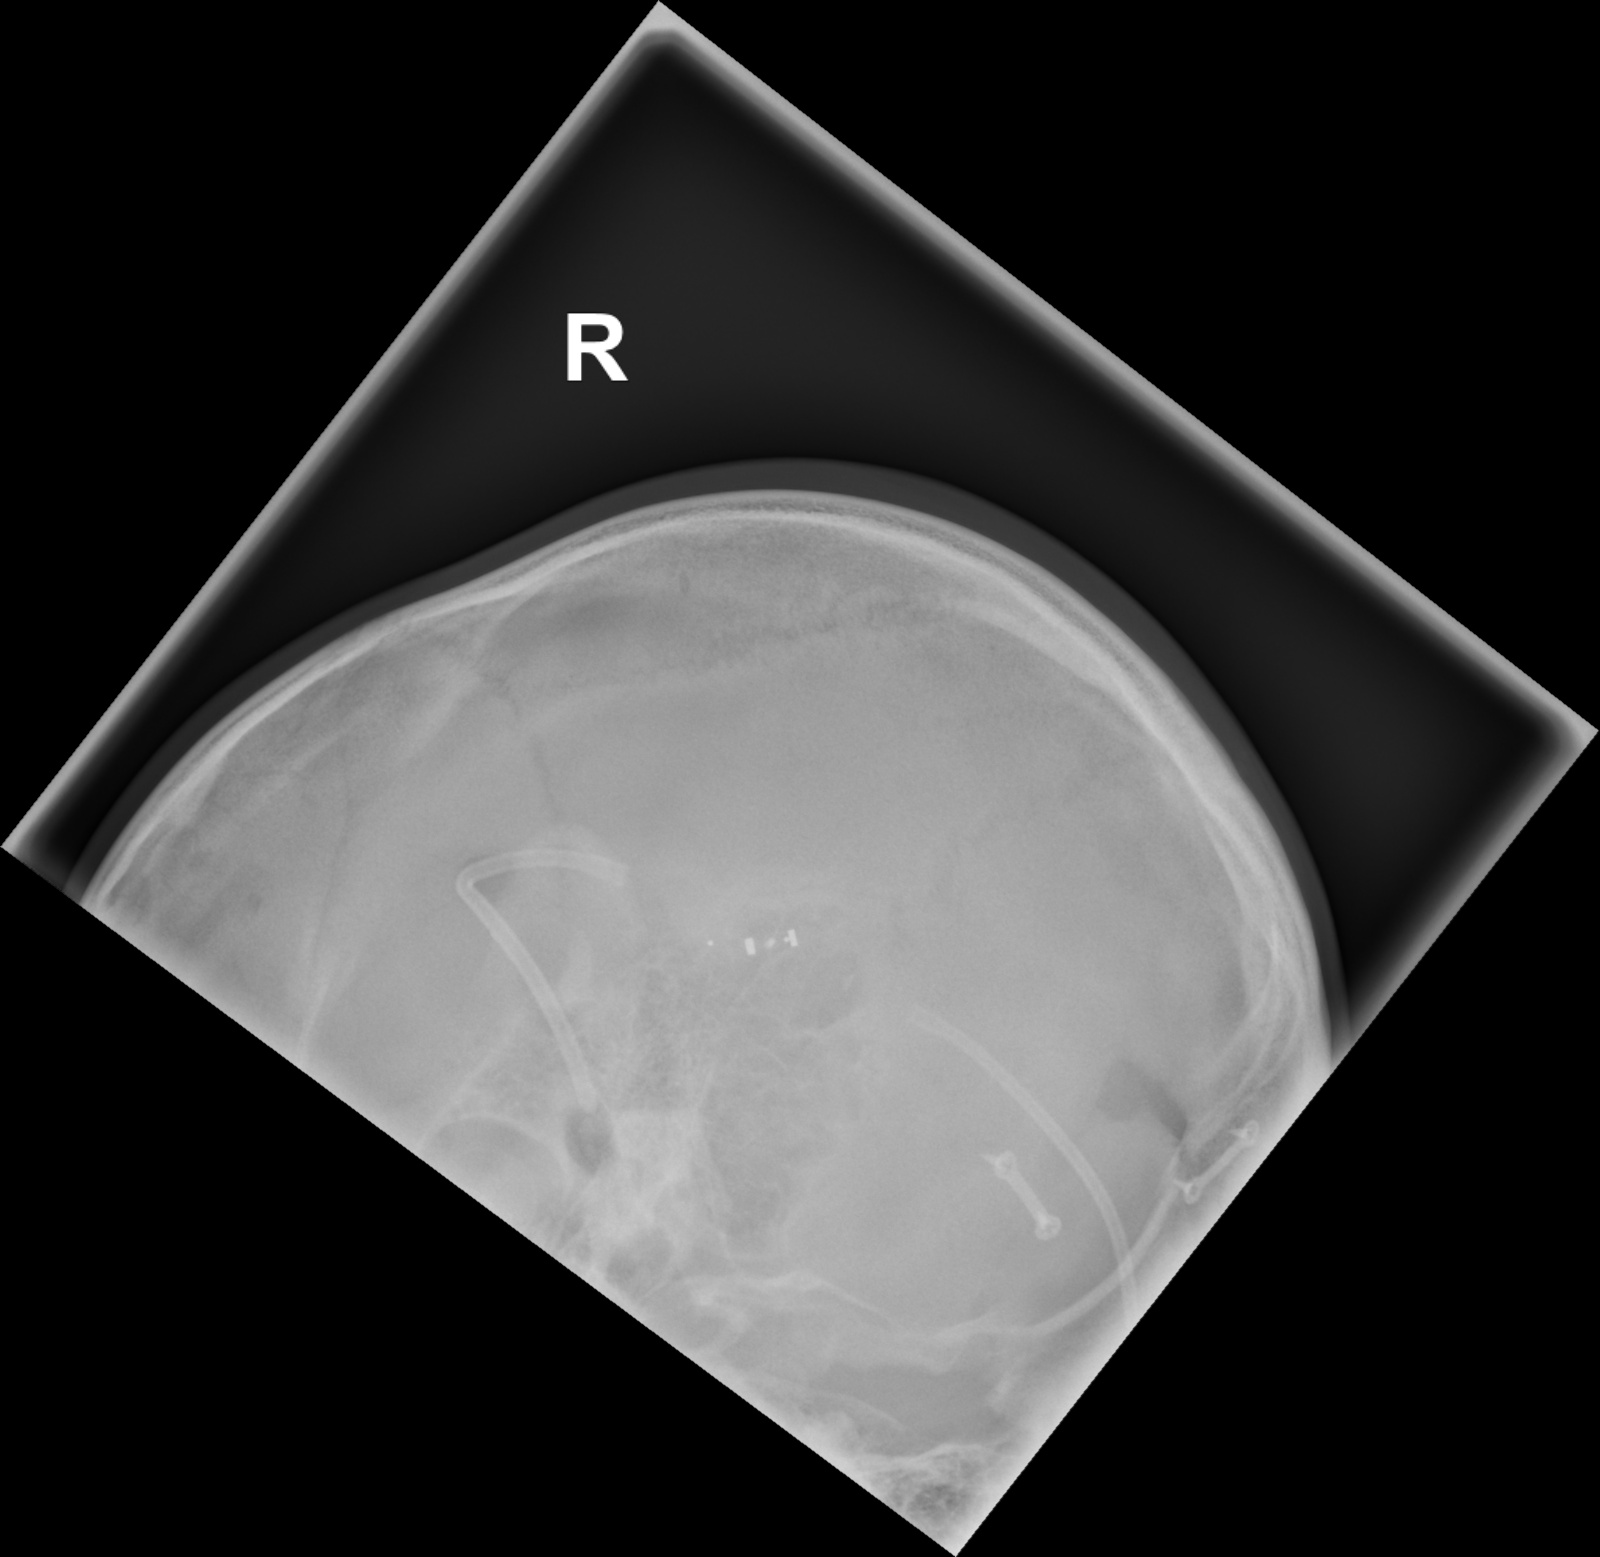Codman Certas: (696, 904, 814, 976)
